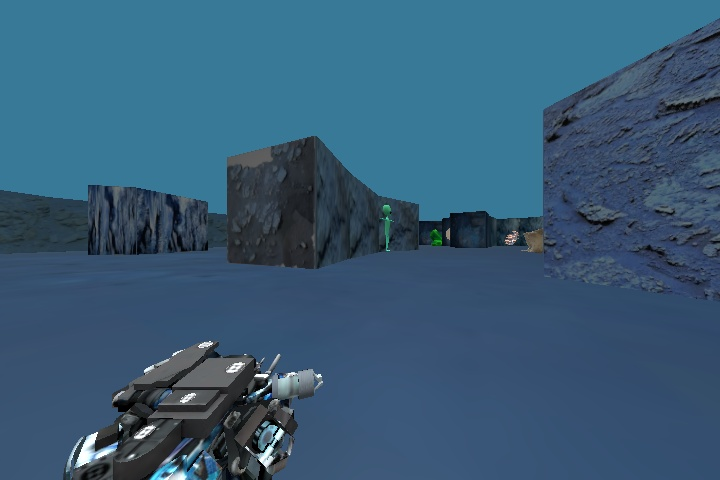formation: (520, 223, 550, 256)
green_alien: (374, 201, 401, 254)
green_crystal: (425, 228, 442, 246)
